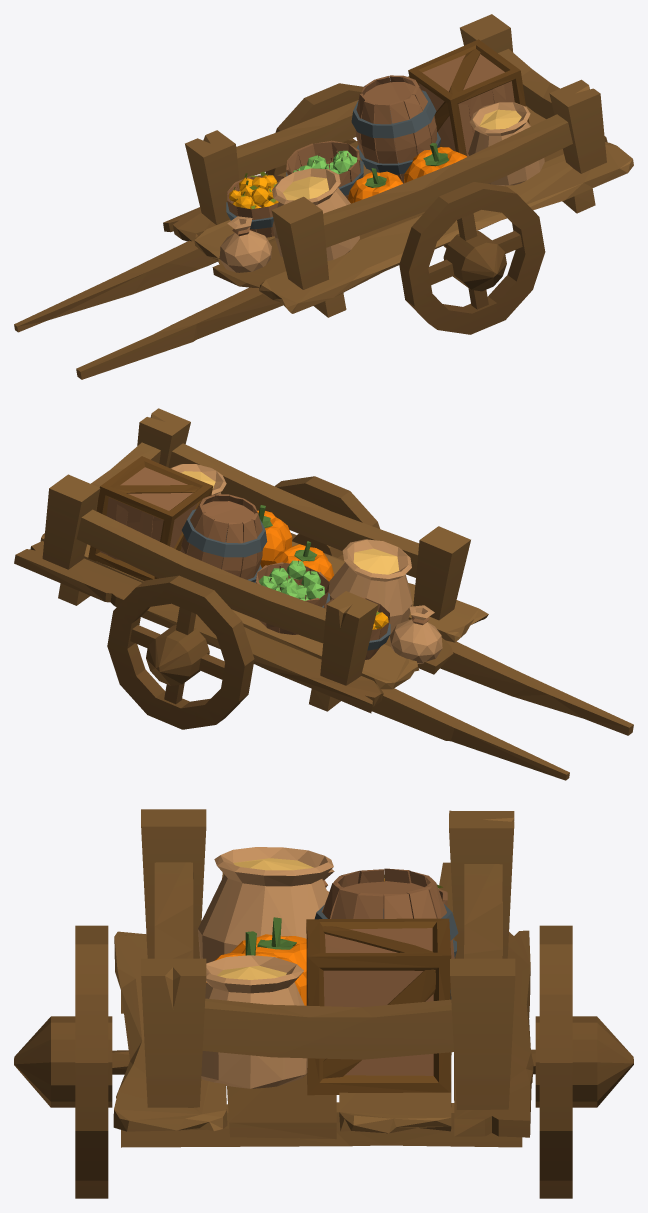
The model's file is Cart_02.fbx.
3 renders of one model, top to bottom at view 1: azimuth 30°, elevation 25°; view 2: azimuth 150°, elevation 25°; view 3: azimuth 270°, elevation 25°, orthographic. The views are drawn at different scales.
Parts seen in each view (by area): view 1: Cart_02; view 2: Cart_02; view 3: Cart_02.
Boxes of the visible parts, <box> form: Cart_02: <box>14,14,633,379</box>; Cart_02: <box>14,408,633,780</box>; Cart_02: <box>14,809,633,1198</box>.
Bounding box in the file's own units: 299 × 103 × 176.
